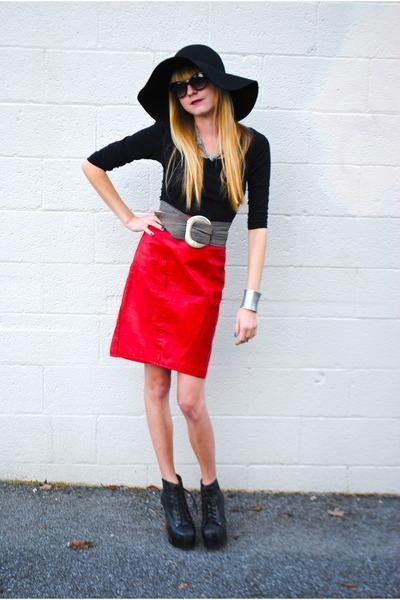hat: (137, 45, 258, 122)
shirt: (87, 112, 270, 229)
shoe: (161, 474, 227, 551)
skirt: (110, 225, 225, 378)
sunglass: (180, 71, 212, 96)
